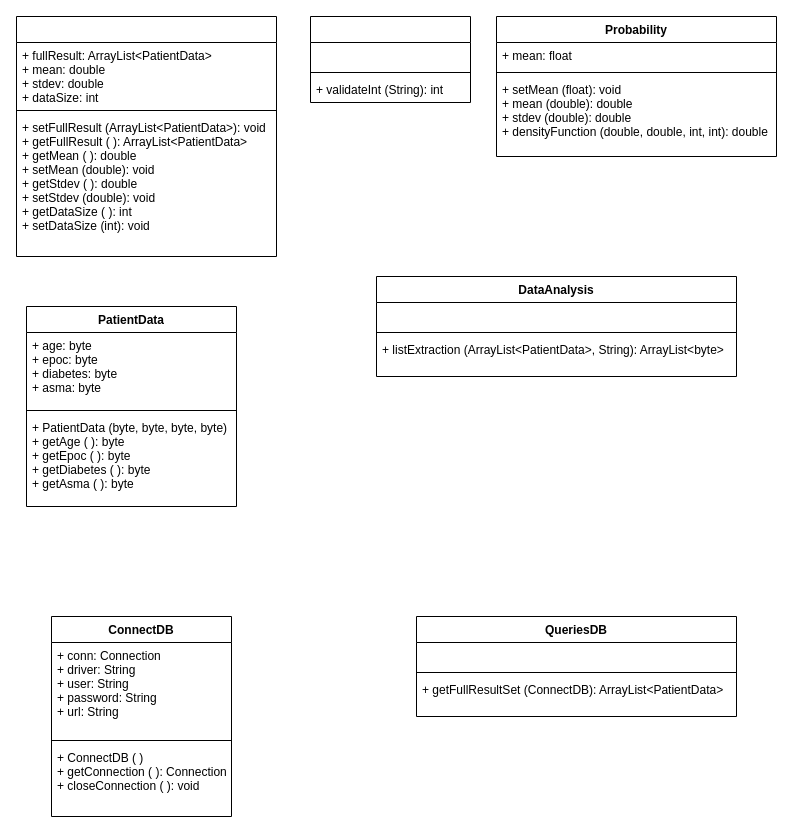
The diagram is 793 pixels wide and 833 high, and some of its shapes have lost their labels. Each missing label, with the box of its shape:
MainModel: (16, 16, 276, 256)
ValidateInput: (310, 16, 470, 102)
